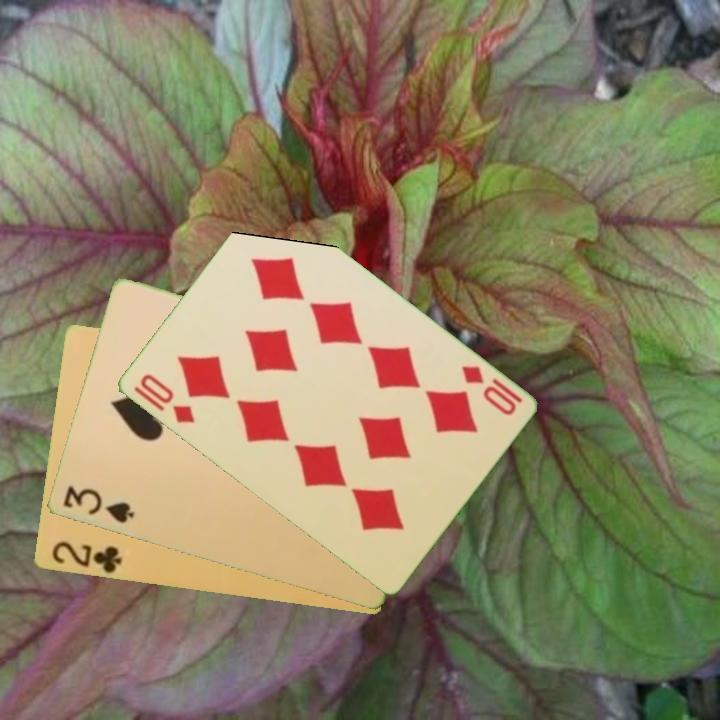10d: (135, 370, 198, 427), (457, 362, 519, 419)
2c: (47, 538, 124, 576)
3s: (59, 482, 137, 527)
